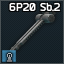AK-74M rear sight 6P20 Sb.2: (0, 0, 64, 64)
